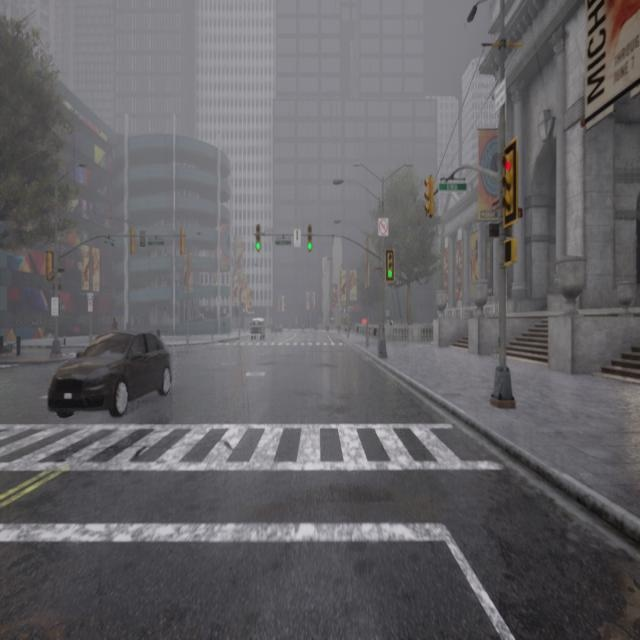bien_chi_dan: (492, 152, 518, 255), (420, 179, 434, 230), (250, 223, 268, 258), (304, 226, 318, 262), (384, 248, 398, 284), (374, 212, 391, 238), (496, 157, 512, 180), (422, 180, 432, 196), (306, 242, 314, 255), (388, 268, 394, 280), (256, 242, 260, 252)
